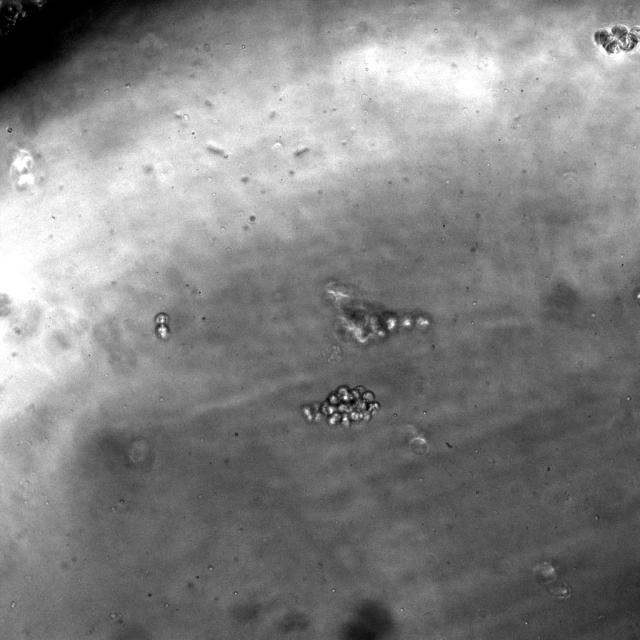organoid: (324, 282, 432, 346), (302, 385, 379, 426), (594, 23, 639, 58), (154, 312, 169, 340)
